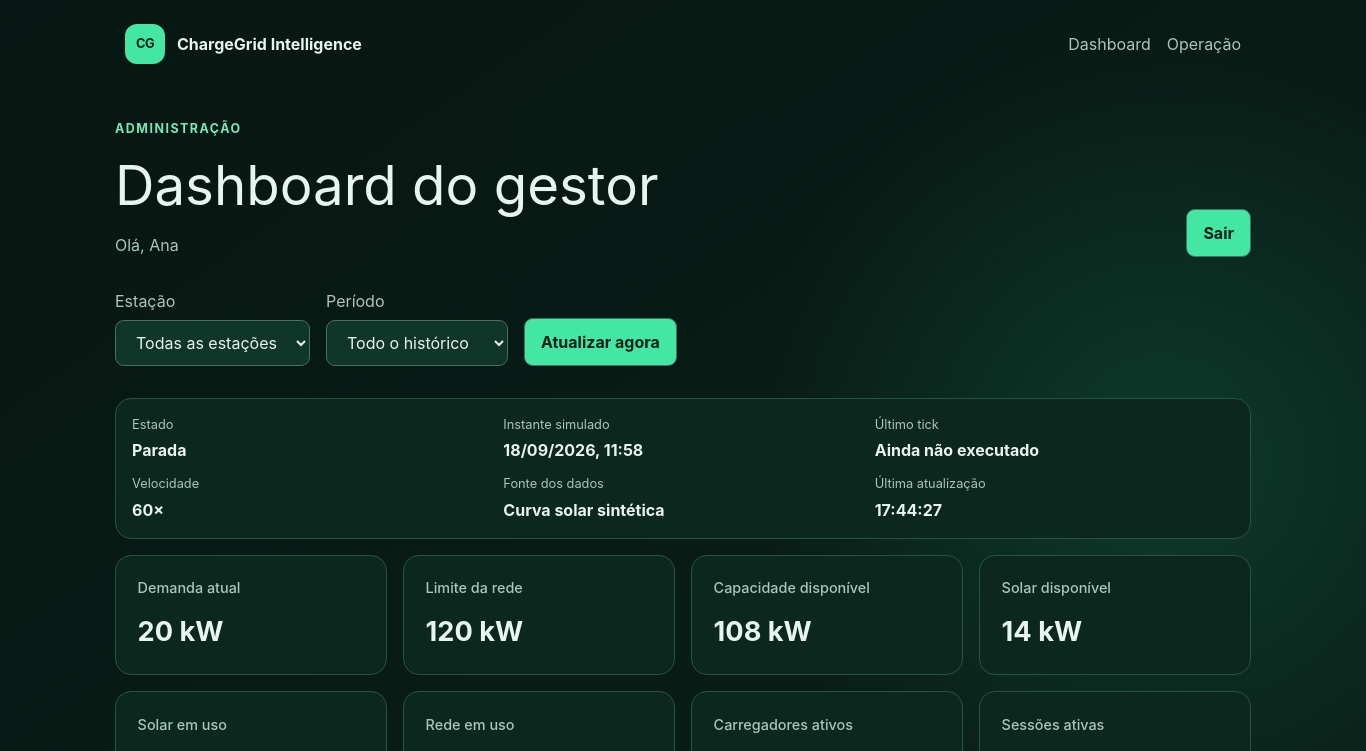
it: admin dashboard prediction › requires a station filter when multiple stations exist and requests only the selected station
Select "Estação Norte" in the dropdown labelled "Estação". click: (212, 343)
box: [115,320,310,366]
(page scrolled)
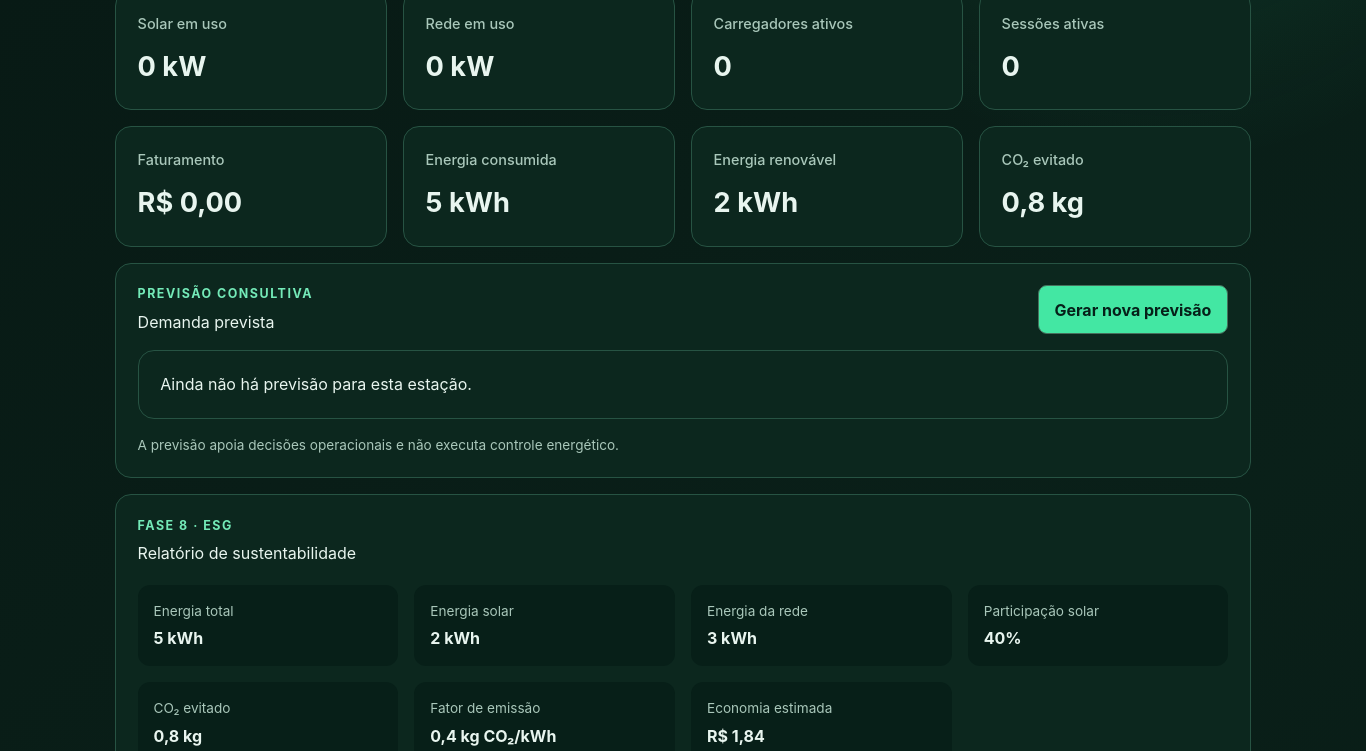
expect the text "Ainda não há previsão para esta estação." is shown: met, box [138,350,1228,419]
